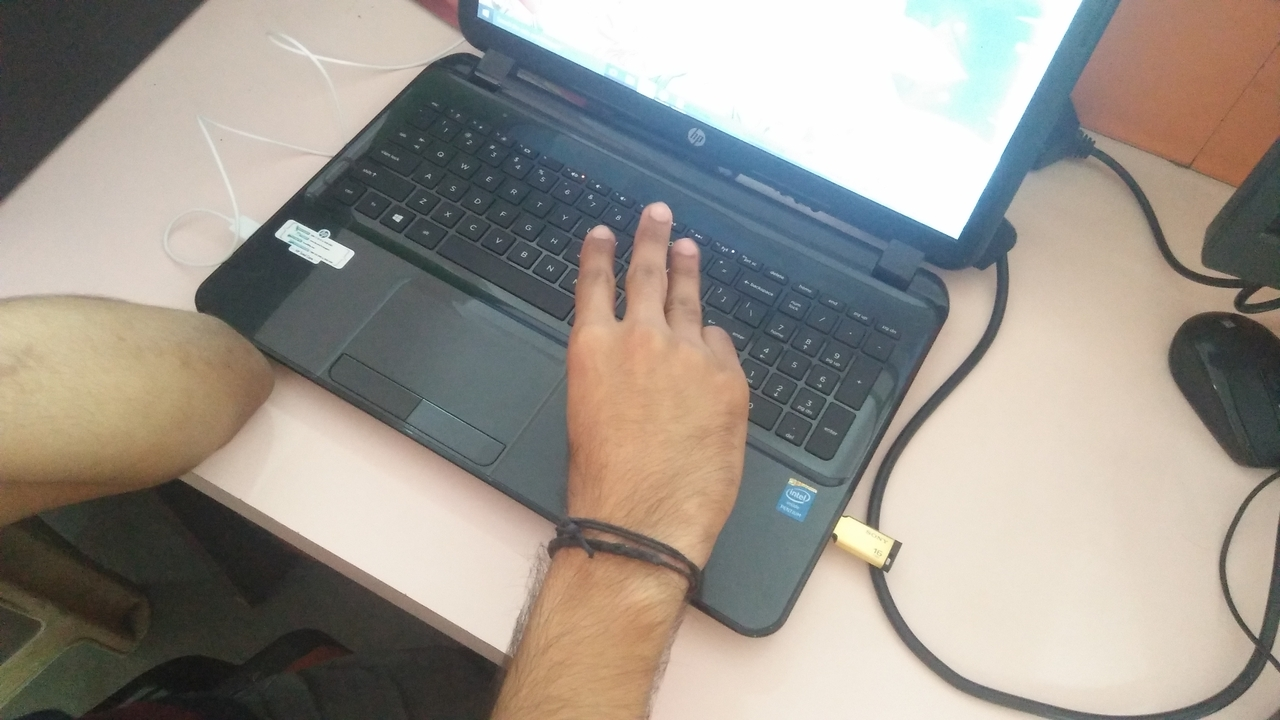fingertip: (626, 188, 680, 238), (572, 212, 620, 262), (670, 228, 709, 267)
